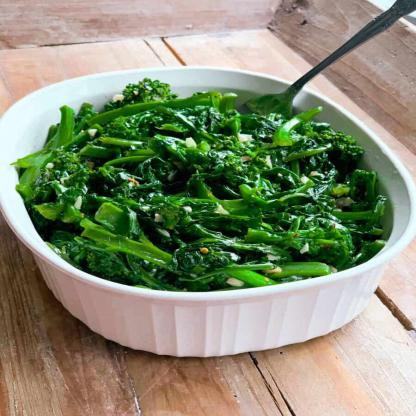broccoli: (11, 74, 392, 292)
